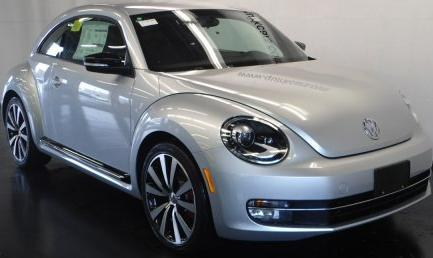front_view: (214, 83, 433, 227)
headlight: (218, 107, 288, 167)
side_glass: (29, 11, 141, 75)
